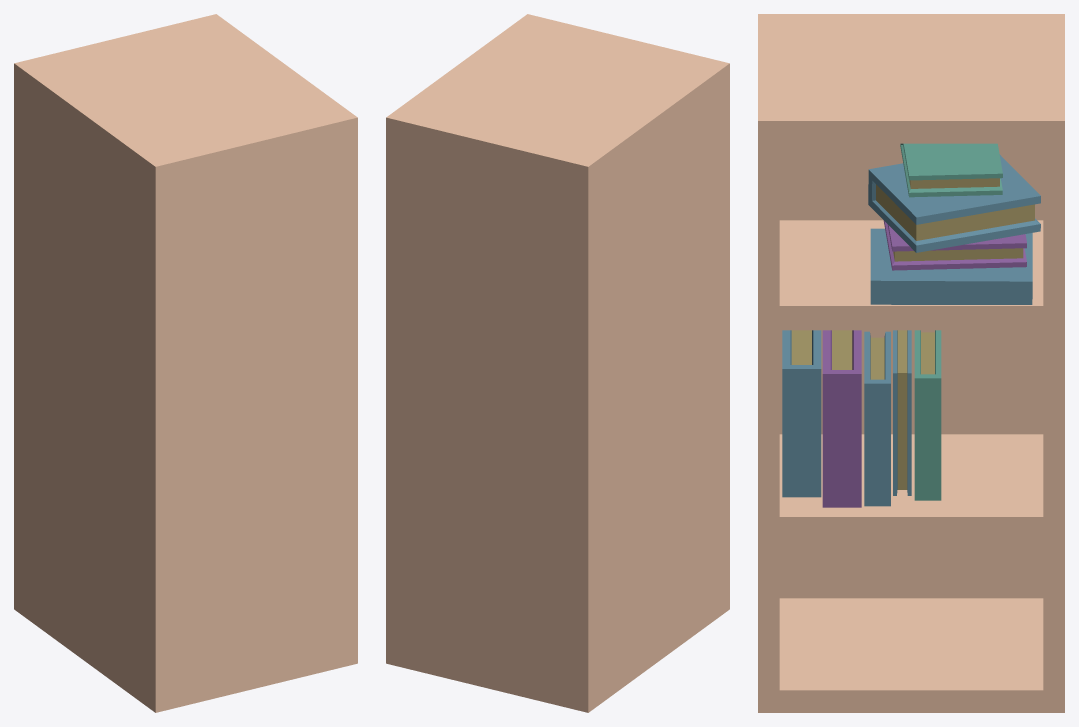
File: BookshelfHalf1.fbx
3 renders of one model, left to right at view 1: azimuth 30°, elevation 25°; view 2: azimuth 150°, elevation 25°; view 3: azimuth 270°, elevation 25°, orthographic. The views are drawn at different scales.
Visible parts, largest first — view 1: Halffull_bookself; view 2: Halffull_bookself; view 3: Halffull_bookself.
Part boxes in pixels (x1,y1,x2,y2): Halffull_bookself: [14, 14, 357, 712]; Halffull_bookself: [386, 14, 729, 712]; Halffull_bookself: [758, 14, 1064, 712].
Size of the model in its own units: 25.64 by 66.15 by 31.06.
